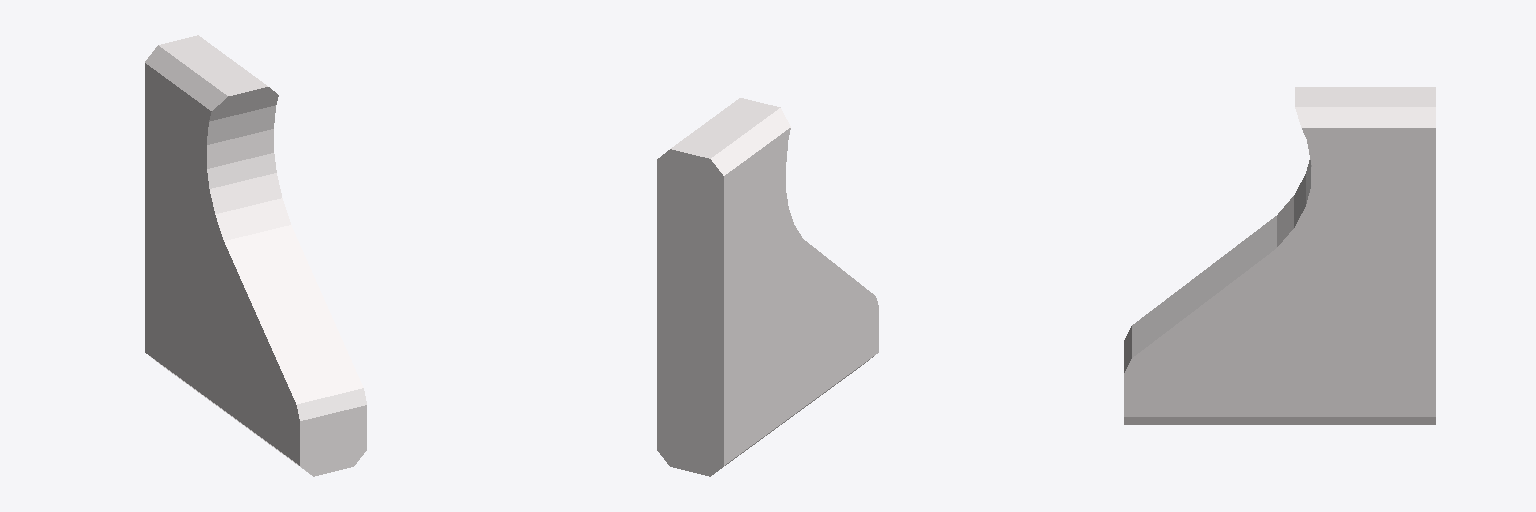
Rendered from ramp.obj.
3 renders of one model, left to right at view 1: azimuth 30°, elevation 25°; view 2: azimuth 150°, elevation 25°; view 3: azimuth 270°, elevation 25°, orthographic.
Parts seen in each view (by area): view 1: mesh12, mesh1, mesh14, mesh10, mesh0, mesh11, mesh3, mesh5, mesh6, mesh4, mesh9, mesh2; view 2: mesh12, mesh13, mesh10, mesh11; view 3: mesh7, mesh1, mesh8, mesh10, mesh16, mesh0.
Part boxes in pixels (left/top/right/bottom): mesh12: left=145, top=63, right=299, bottom=465; mesh1: left=224, top=225, right=363, bottom=404; mesh14: left=300, top=405, right=366, bottom=476; mesh10: left=159, top=35, right=267, bottom=95; mesh0: left=215, top=198, right=290, bottom=240; mesh11: left=145, top=45, right=227, bottom=110; mesh3: left=210, top=173, right=281, bottom=213; mesh5: left=207, top=129, right=273, bottom=168; mesh6: left=207, top=105, right=275, bottom=144; mesh4: left=207, top=153, right=276, bottom=188; mesh9: left=209, top=87, right=278, bottom=121; mesh2: left=297, top=388, right=366, bottom=420; mesh12: left=724, top=128, right=878, bottom=465; mesh13: left=657, top=149, right=723, bottom=476; mesh10: left=671, top=98, right=780, bottom=158; mesh11: left=711, top=108, right=790, bottom=175; mesh7: left=1124, top=128, right=1435, bottom=416; mesh1: left=1132, top=216, right=1276, bottom=357; mesh8: left=1295, top=107, right=1435, bottom=127; mesh10: left=1295, top=87, right=1435, bottom=106; mesh16: left=1124, top=417, right=1435, bottom=424; mesh0: left=1277, top=196, right=1293, bottom=246.
Bounding box in the file's own units: 1.5 × 6.77 × 6.